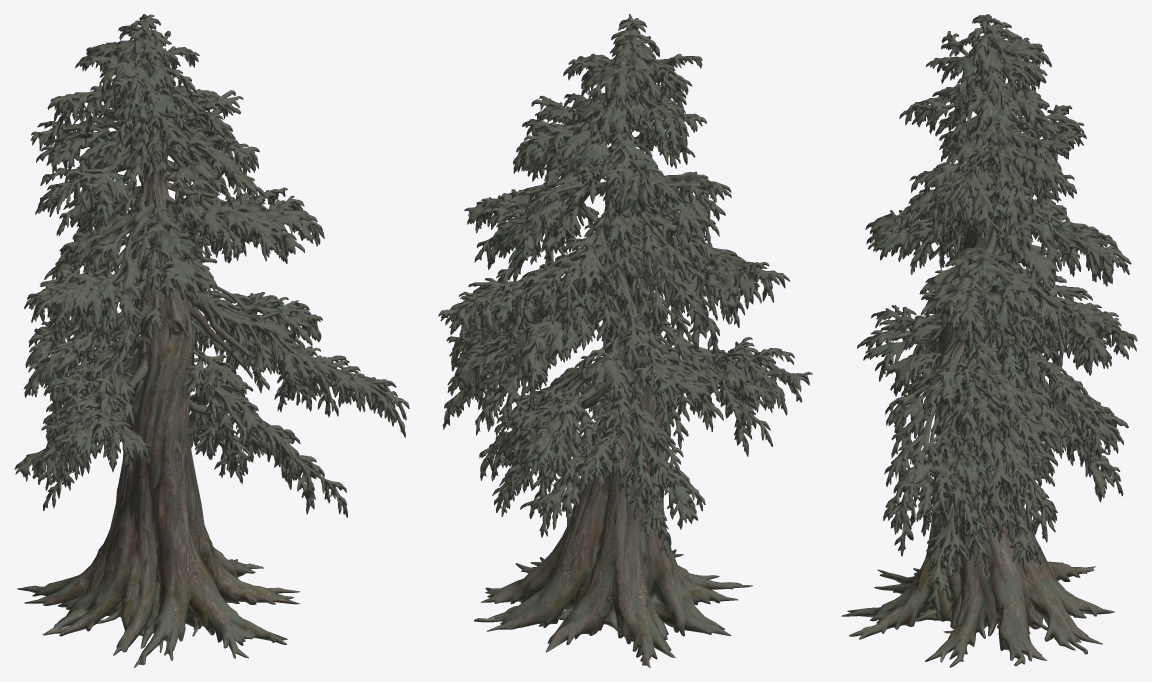
Rendered from tree_cedar.glb.
The picture shows the model from 3 angles, left to right: view 1: azimuth 30°, elevation 25°; view 2: azimuth 150°, elevation 25°; view 3: azimuth 270°, elevation 25°; orthographic projection.
Parts seen in each view (by area): view 1: tree_cedar; view 2: tree_cedar; view 3: tree_cedar.
Boxes of the visible parts, x1,y1,x2,y2 form: tree_cedar: (14, 14, 409, 667); tree_cedar: (438, 14, 812, 667); tree_cedar: (841, 14, 1137, 667).
Size of the model in its own units: 118 by 190 by 86.53.
Materials: 1 (1 with a texture image).
